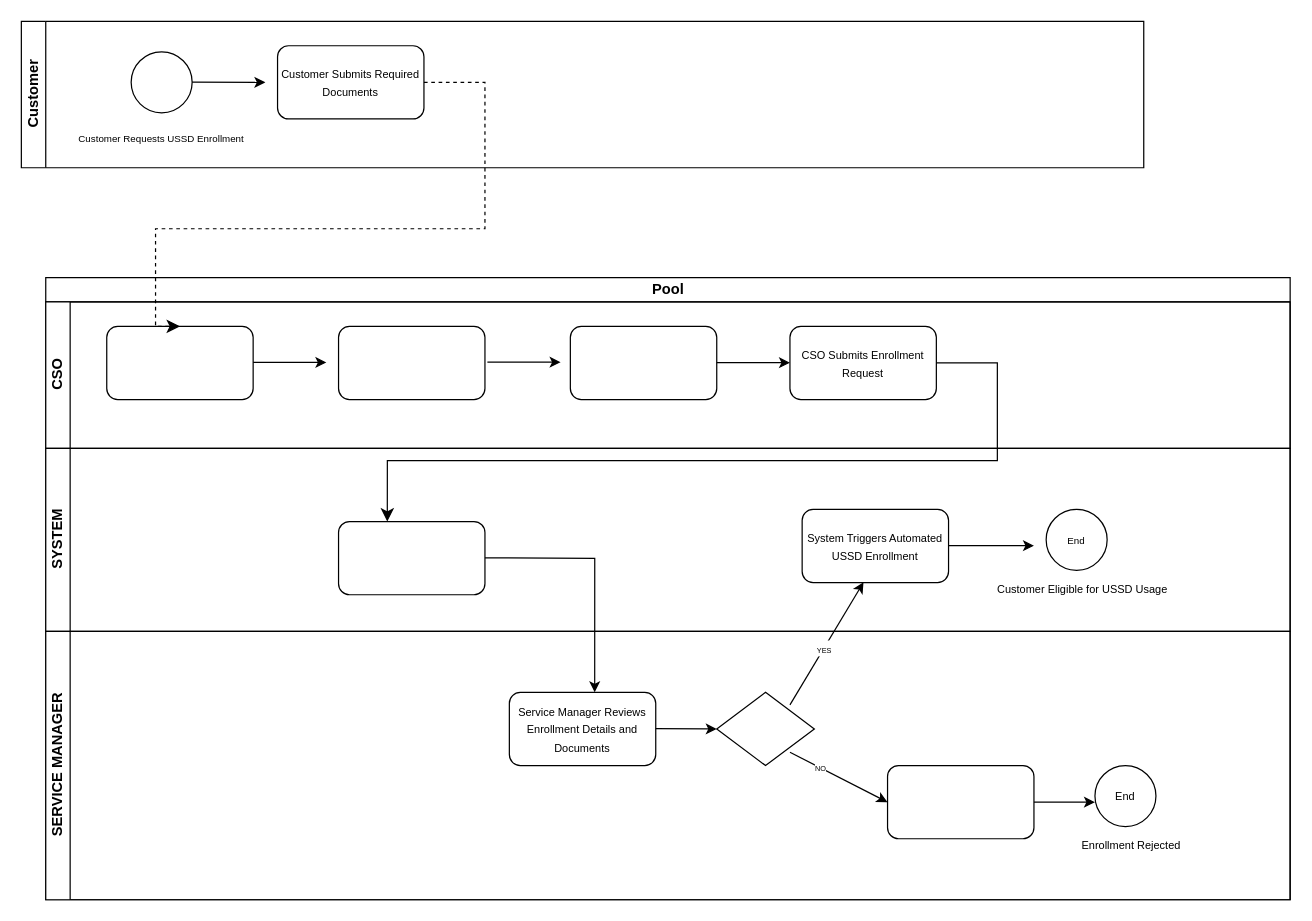
The diagram is 1312 pixels wide and 921 high, and some of its shapes have lost their labels. The centre of each missing label's shape, as x and y in pixels:
"CSO Enters Enrollment Metadata" goes at (643,362).
"CSO Logs into USSD Portal" goes at (179,362).
"CSO Uploads Customer Documents" goes at (411,362).
"Service Manager Rejects Request" goes at (960,801).
"Start" goes at (161,82).
"System Routes Request to Service Manager" goes at (411,557).
